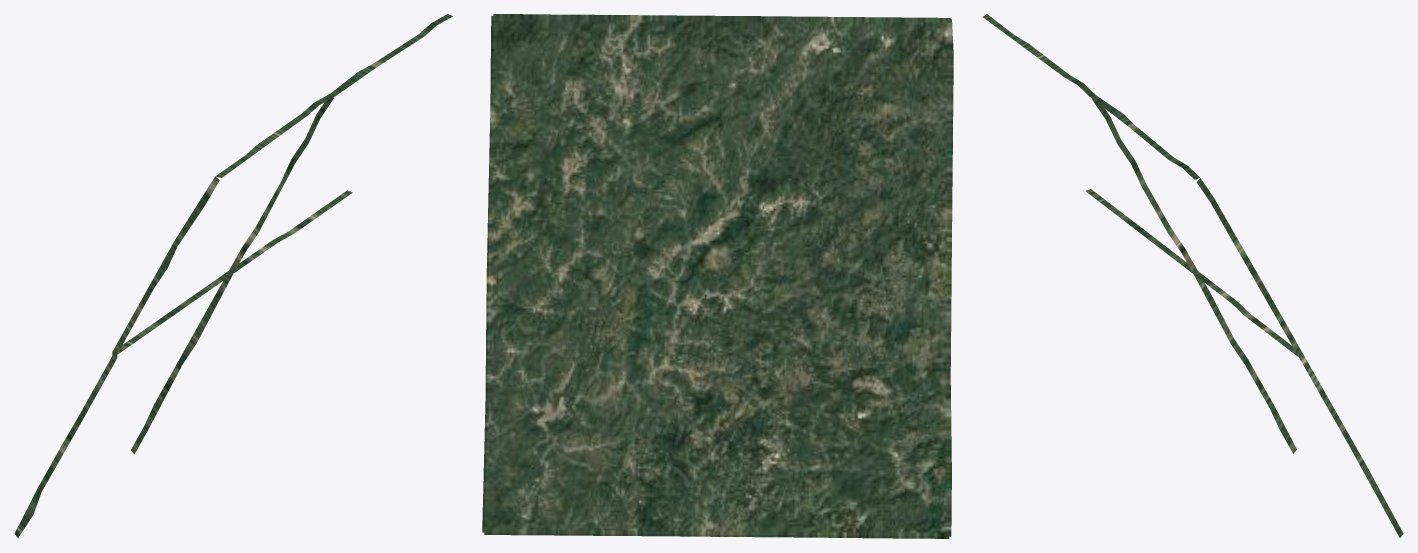
3 renders of one model, left to right at view 1: azimuth 30°, elevation 25°; view 2: azimuth 150°, elevation 25°; view 3: azimuth 270°, elevation 25°, orthographic. The views are drawn at different scales.
Bounding box in the file's own units: 158379 × 141038 × 132247.
Materials: 1 (1 with a texture image).
